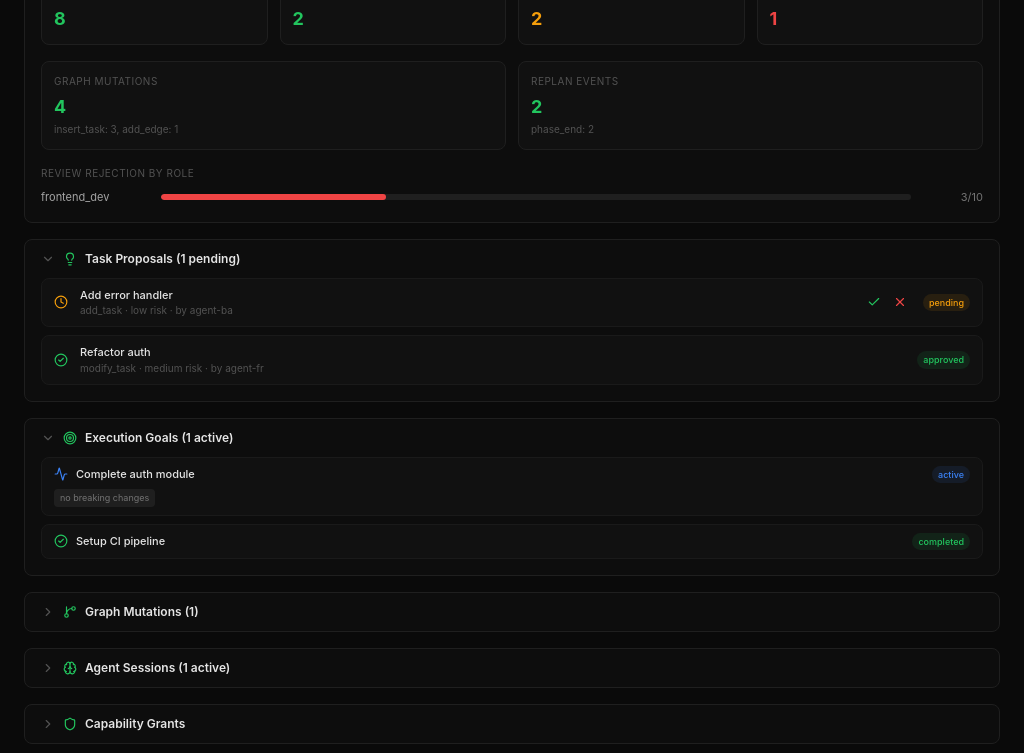
Test: AgenticPanel › renders graph mutations after expanding section
(page scrolled)
Click the button "Graph Mutations (1)" at (142, 612), box [25, 593, 999, 631]
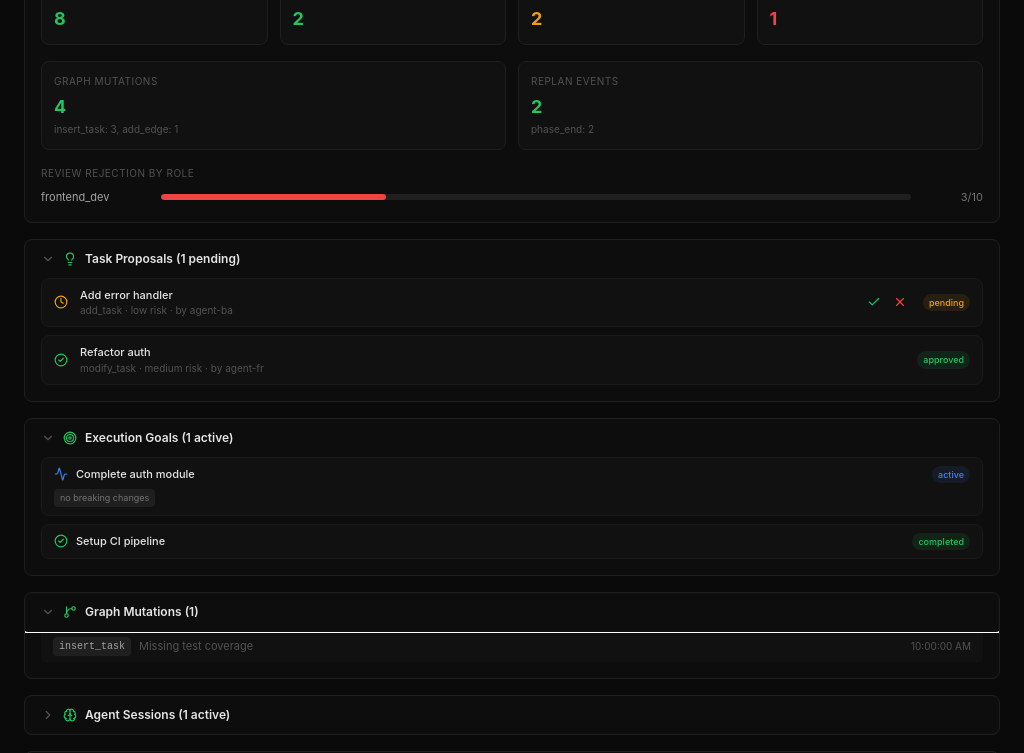
Check: the text "insert_task" is shown, box [53, 637, 131, 656]
Check: the text "Missing test coverage" is shown, box [139, 639, 253, 653]
